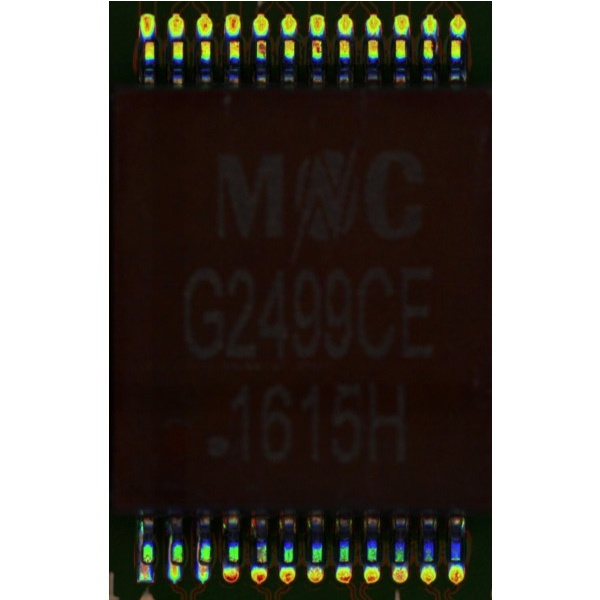Bad_podu: (199, 556, 209, 567), (142, 555, 151, 567), (171, 556, 180, 568)
Bad_qiaojiao: (139, 519, 143, 562), (168, 530, 173, 561), (196, 533, 201, 561)
